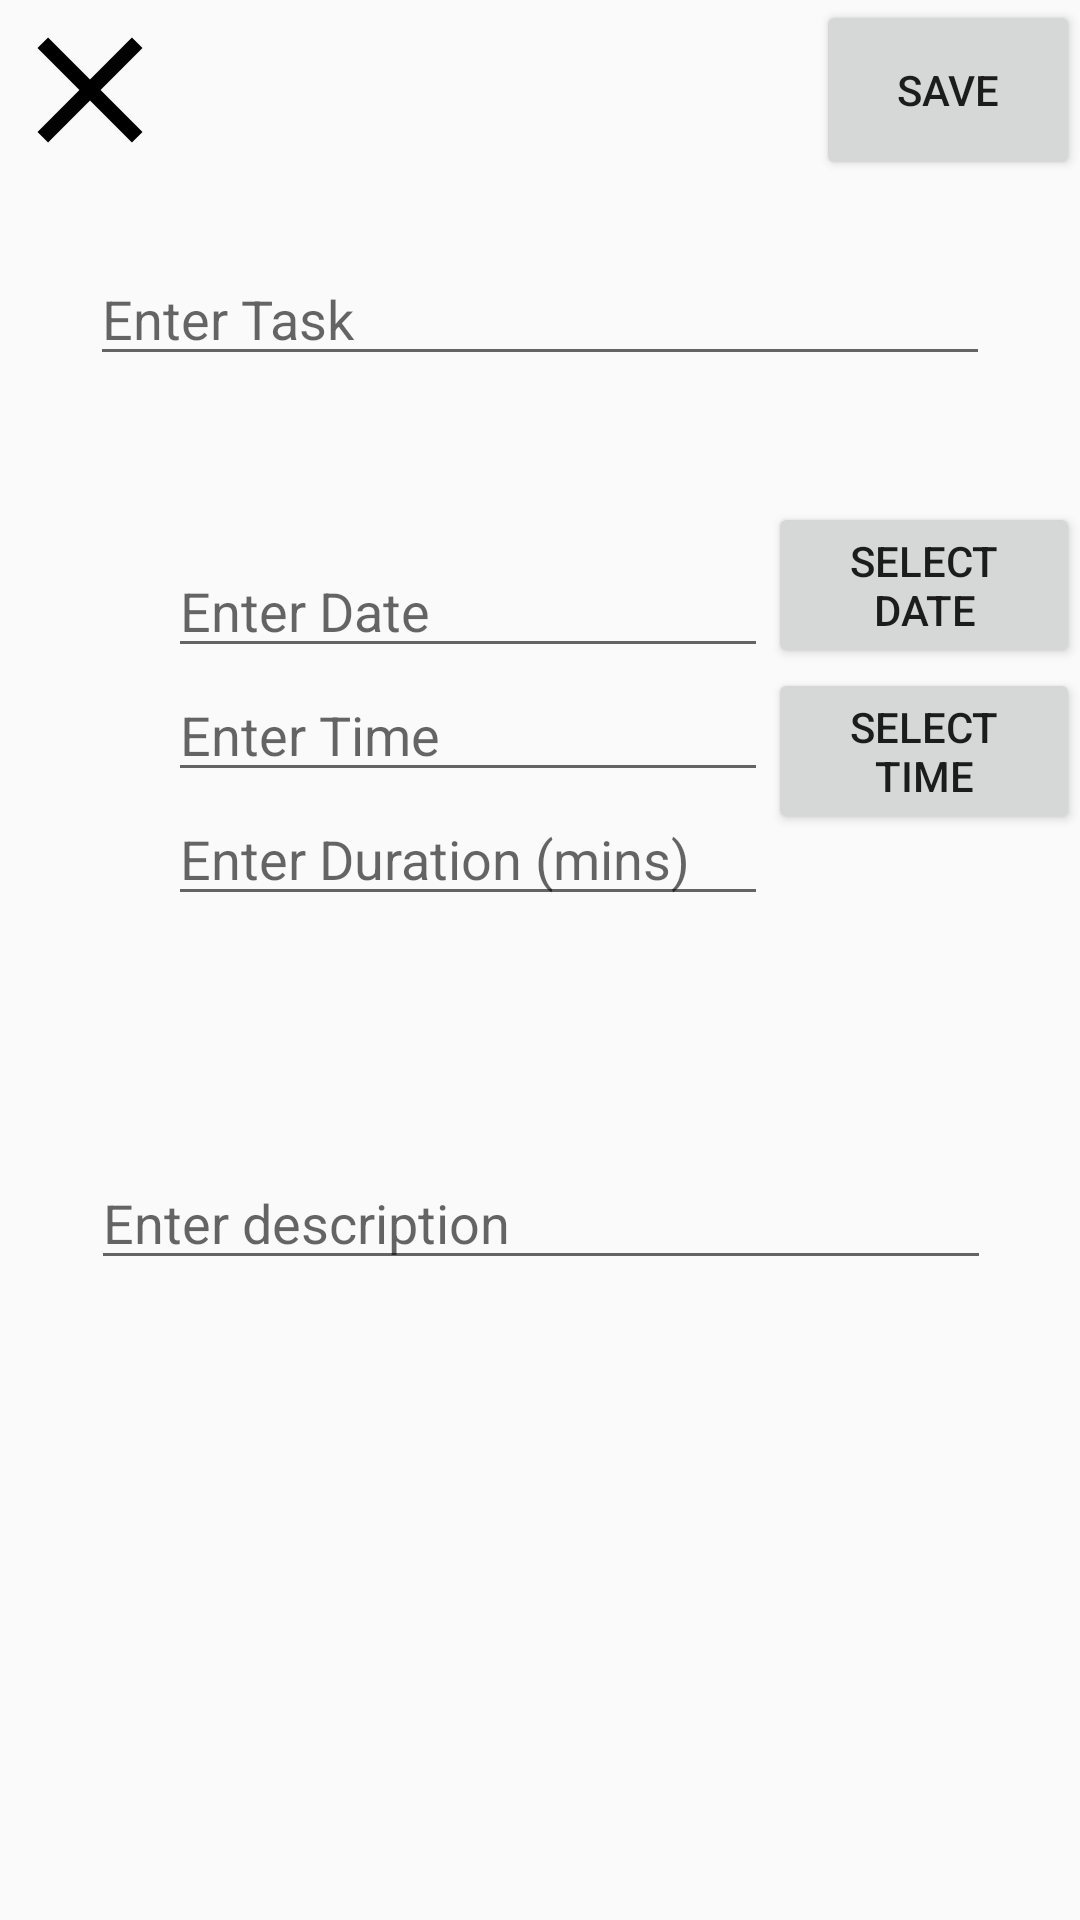

Named icons in this screenshot (1080w x 1920h) and their centers, [x,y]:
close: [90,90]
